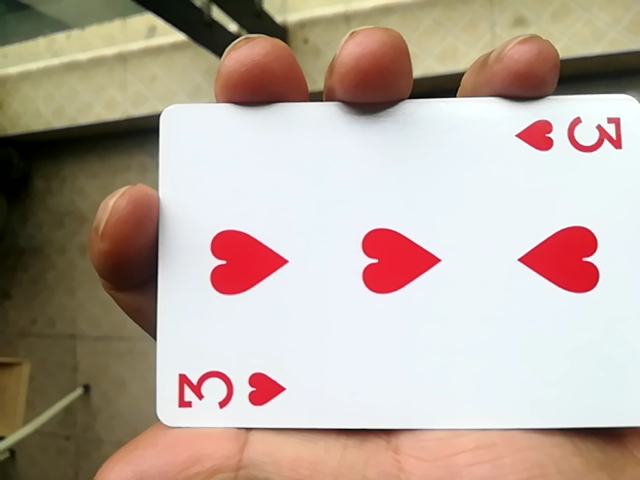hx 3: (137, 106, 637, 450)
